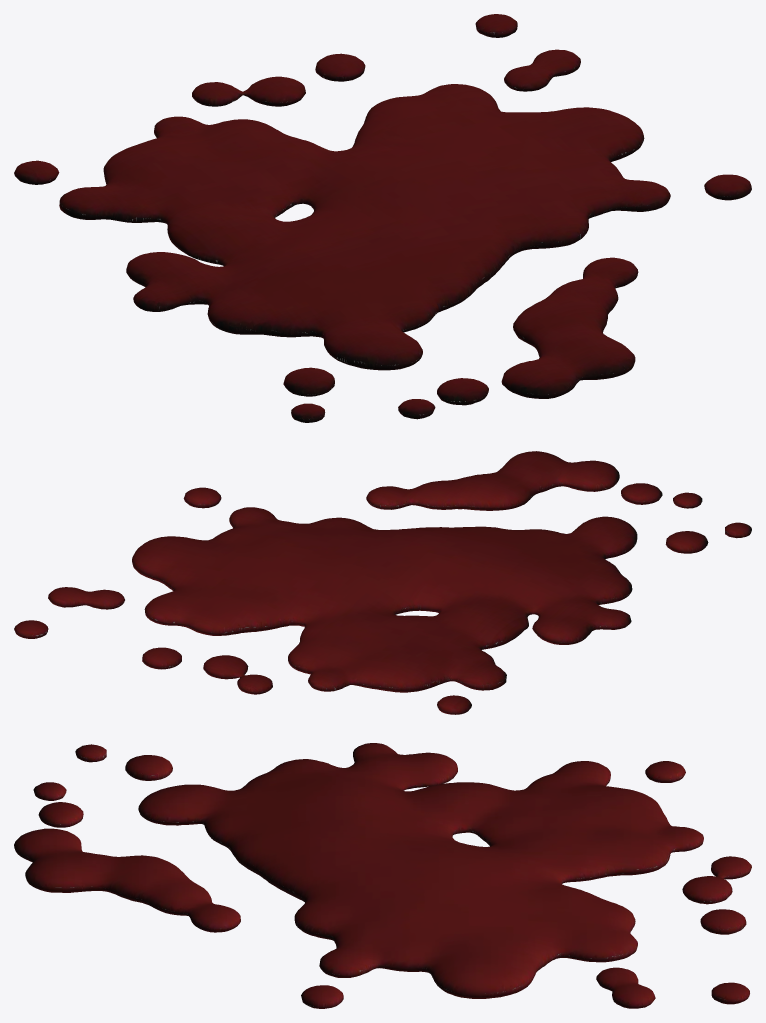
Rendered from blood_spattered.glb.
3 views of the same model, one above another, from view 1: azimuth 30°, elevation 25°; view 2: azimuth 150°, elevation 25°; view 3: azimuth 270°, elevation 25° (orthographic). The views are drawn at different scales.
Visible parts, largest first — view 1: Remesh; view 2: Remesh; view 3: Remesh.
Boxes of the visible parts, left/top/right/bottom form: Remesh: left=14, top=14, right=751, bottom=422; Remesh: left=14, top=451, right=751, bottom=714; Remesh: left=14, top=743, right=751, bottom=1008.
Bounding box in the file's own units: 13.49 × 1.1 × 16.13.
1 material, 1 textured.
